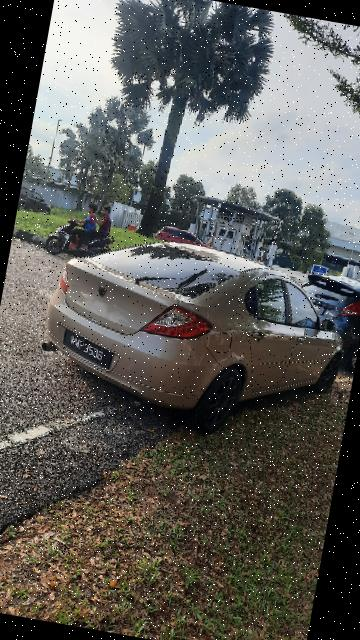License_Plate: (55, 324, 123, 378)
car: (22, 221, 360, 458)
